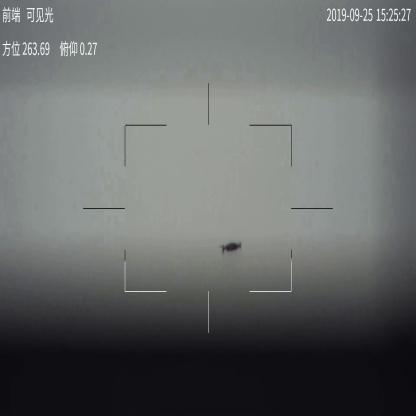uav: (220, 240, 242, 257)
